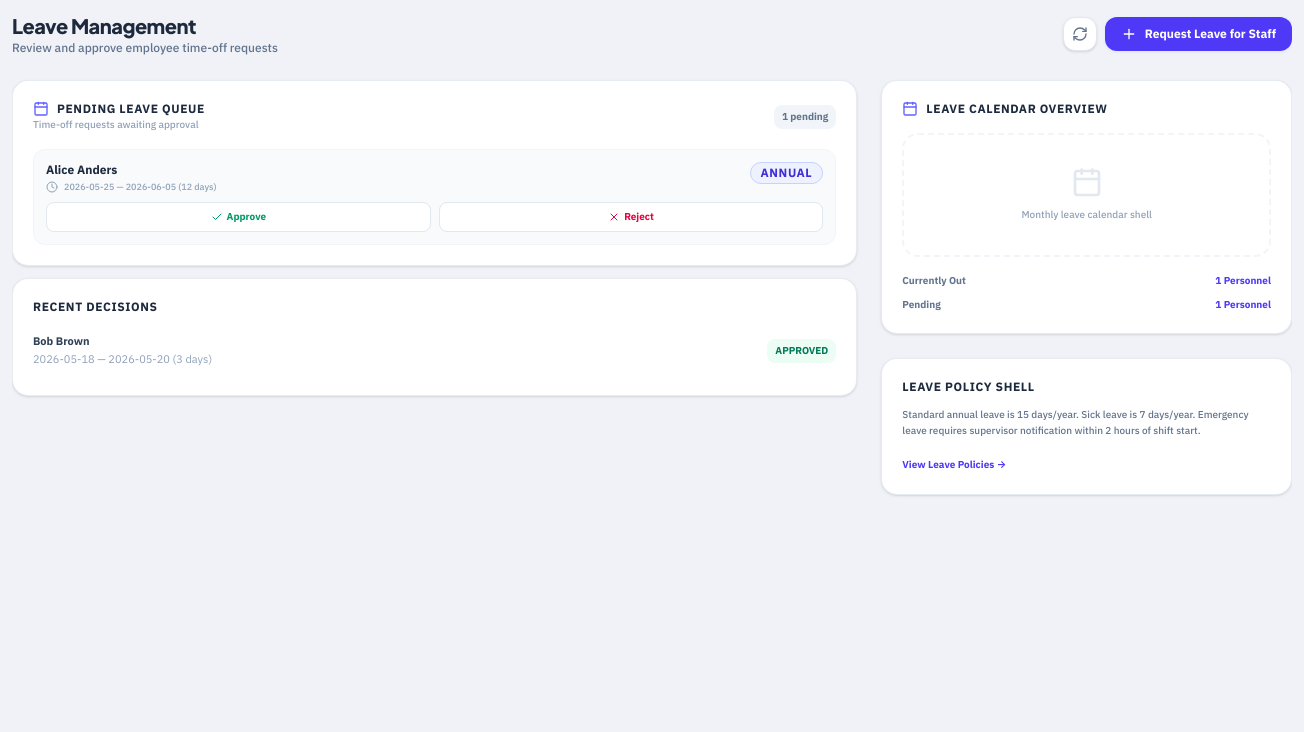
LeaveManagementPage — live backend wiring › surfaces inline error when approve fails (no alert)
Click the button with test id "leave-approve-lr-001": (238,217) [46, 202, 431, 232]
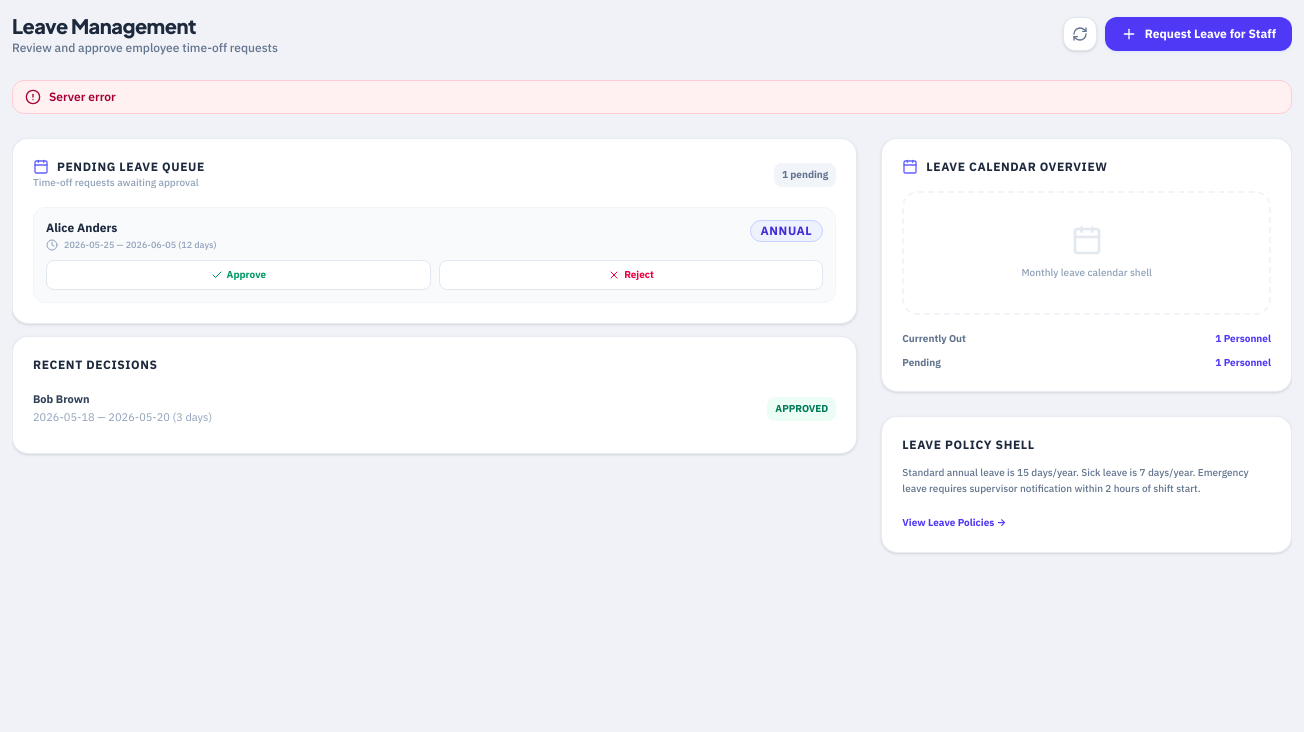
Expected: the message "Server error" is shown, [12, 80, 1292, 114]
